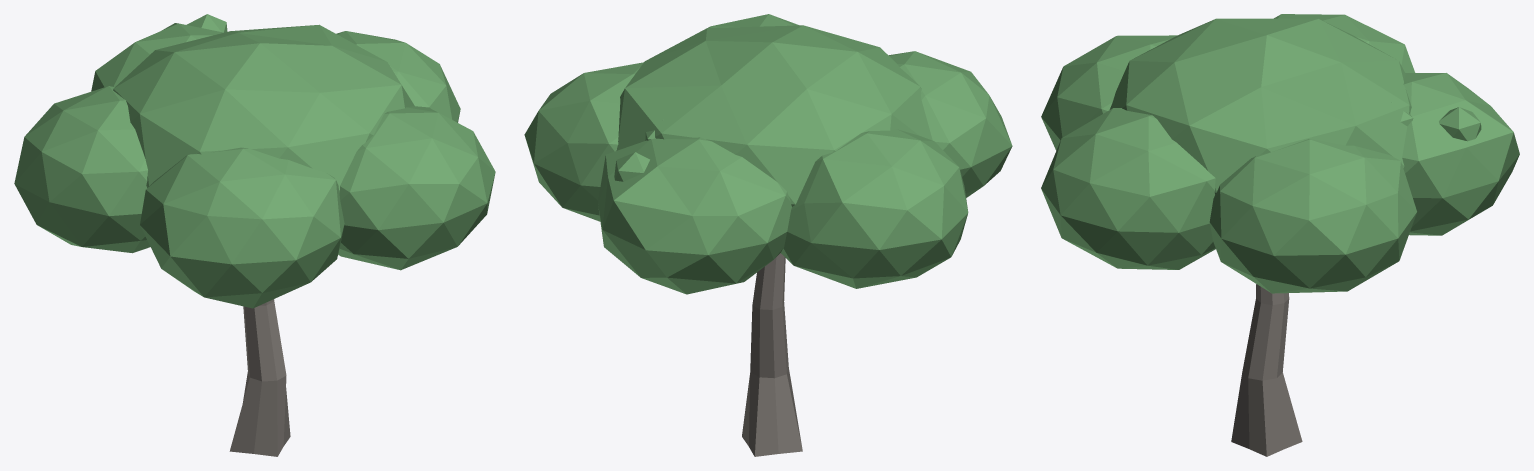
File: tree_magnolia.glb
3 views of the same model, side by side, from view 1: azimuth 30°, elevation 25°; view 2: azimuth 150°, elevation 25°; view 3: azimuth 270°, elevation 25° (orthographic).
Visible parts, largest first — view 1: tree_magnolia; view 2: tree_magnolia; view 3: tree_magnolia.
Boxes of the visible parts, x1,y1,x2,y2 form: tree_magnolia: (14, 14, 495, 456); tree_magnolia: (524, 14, 1012, 456); tree_magnolia: (1041, 14, 1519, 456).
Bounding box in the file's own units: 6.73 × 6.2 × 6.62.
